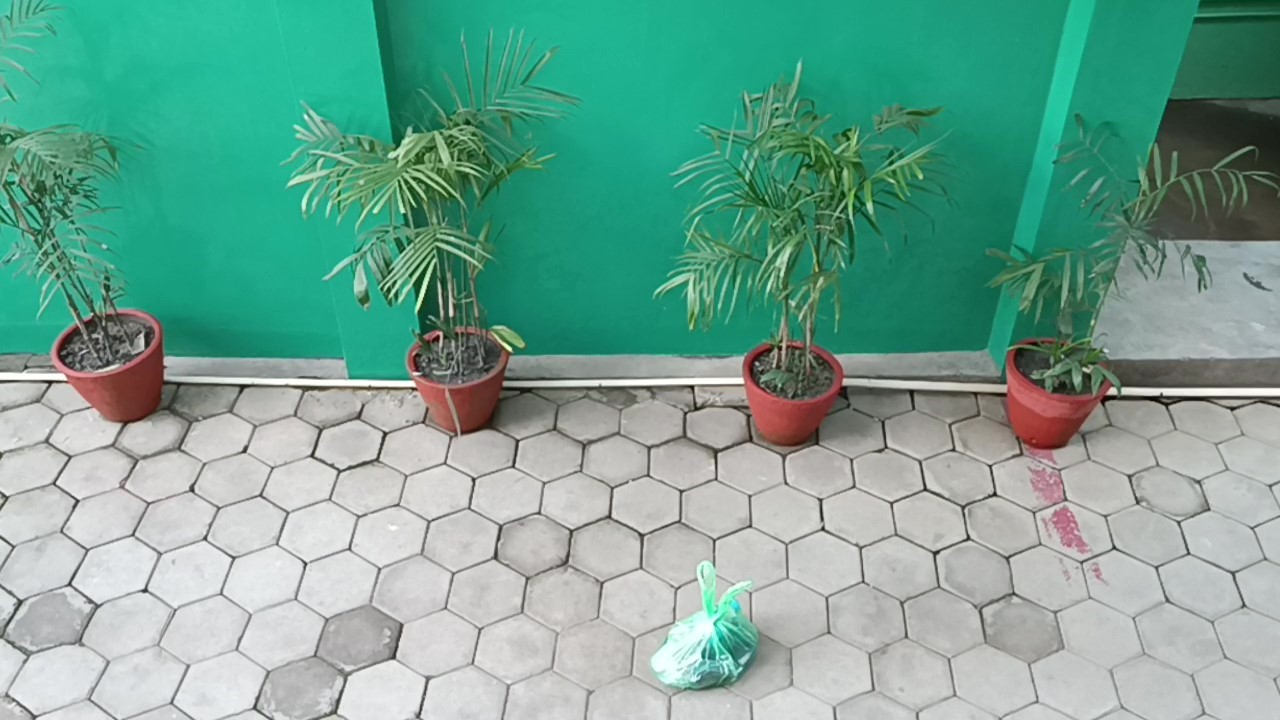thrownwaste: (591, 538, 828, 720)
